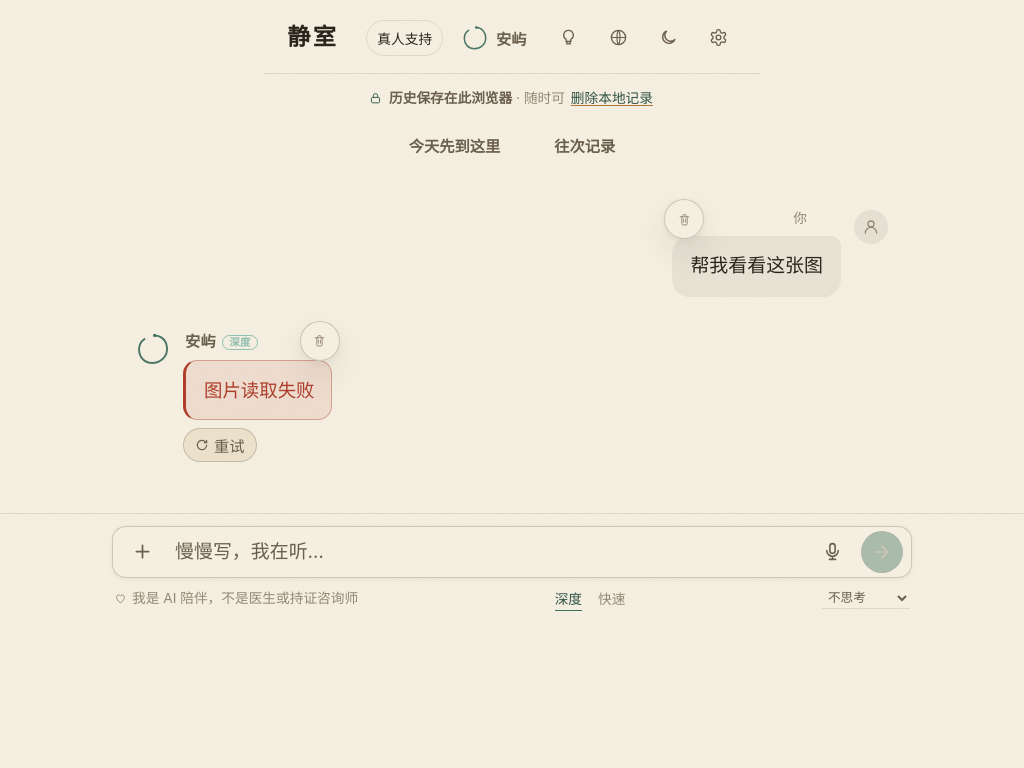
Scenario: App deletion and request lifetime › does not turn a restored unread image into a successful text-only retry
Click the button "重试" at [220, 445], box [183,428,256,462]
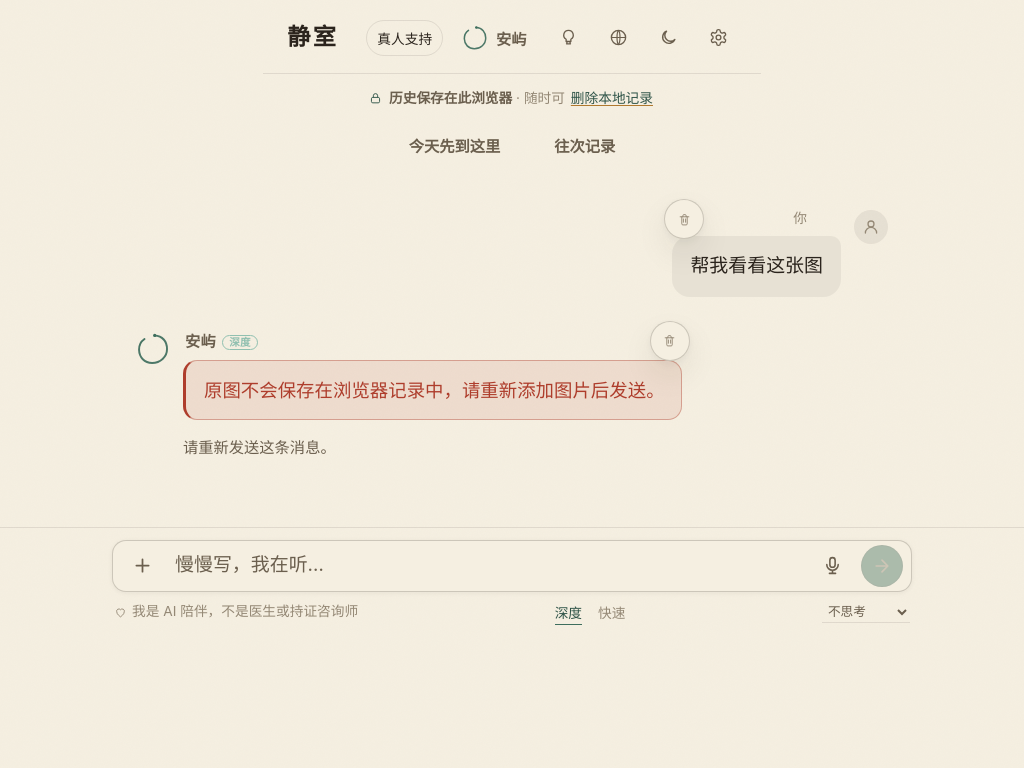
Result: the text "原图不会保存在浏览器记录中，请重新添加图片后发送。" is shown at [204,379,665,401]
Result: the button "重试" is gone
